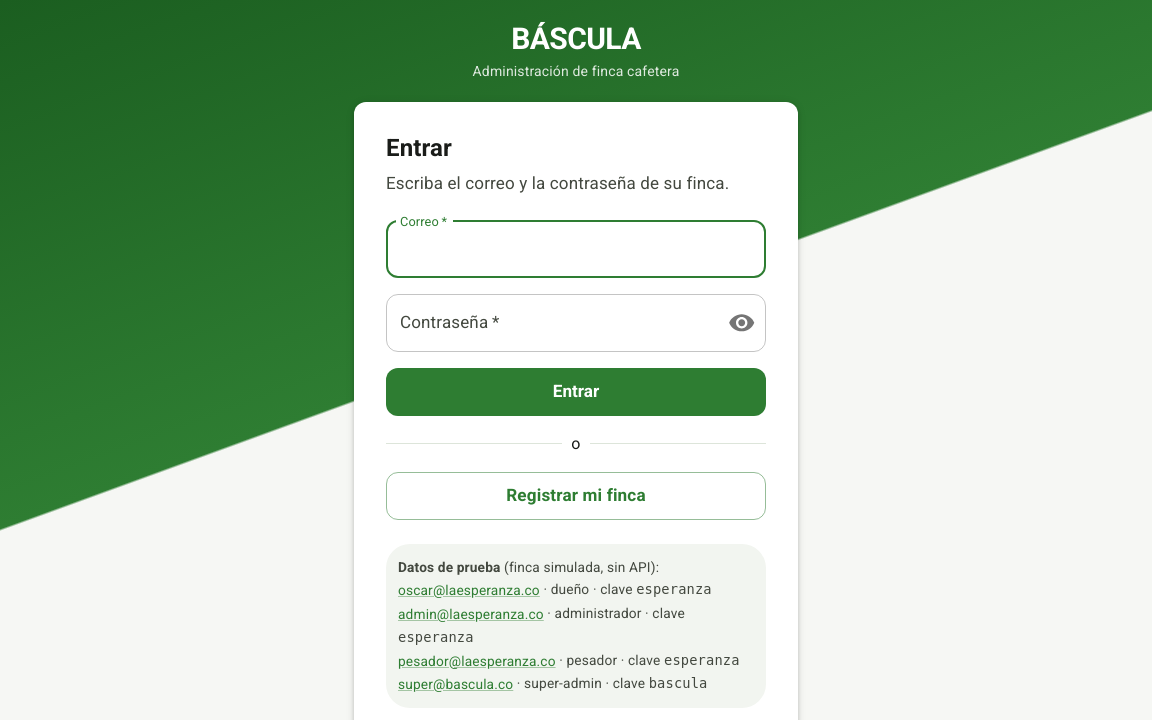
Test: on mocks › offers the test accounts, which fill the form
expect the text "Datos de prueba" is shown: met, box [398,559,500,575]
What coordinates should you click on to do the following:
click the button "admin@laesperanza.co"
I would click on:
 (471, 614)
Its box is [398,603,544,626].
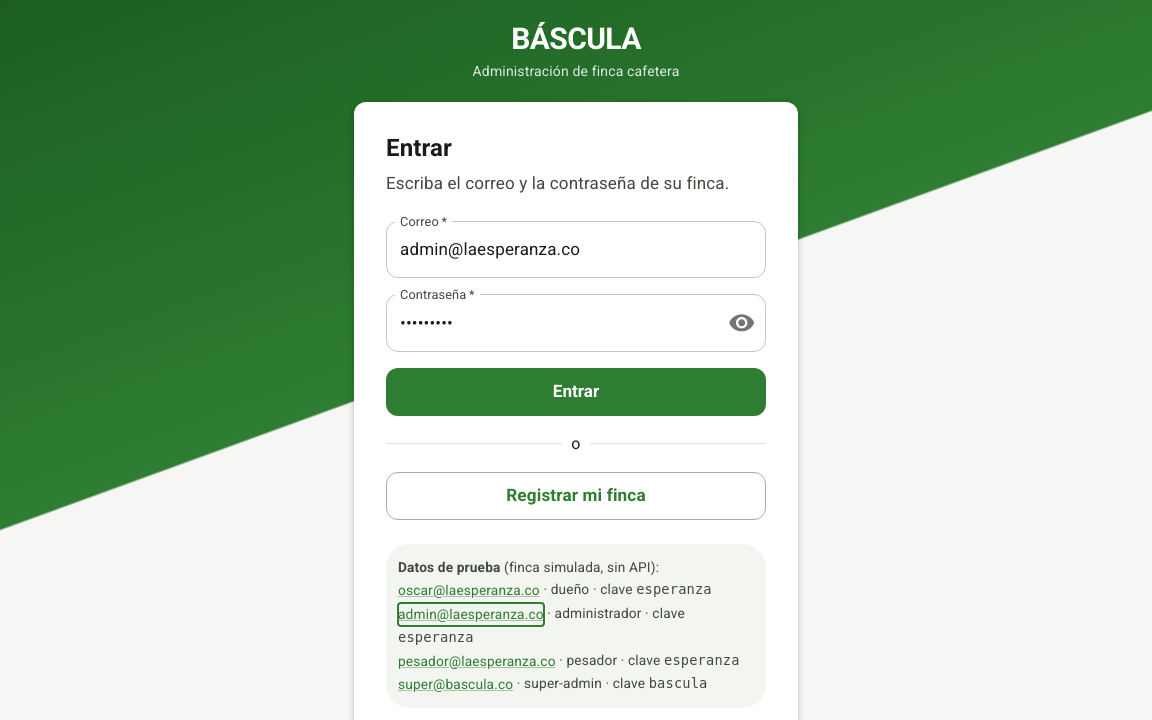
expect the field labelled "Correo *" holds "admin@laesperanza.co": met, box [386,221,766,278]
expect the password field labelled "Contraseña *" holds "esperanza": met, box [386,294,712,352]
What coordinates should you click on to do the following:
click the button "super@bascula.co"
I would click on:
 (456, 685)
Its box is [398,673,513,696].
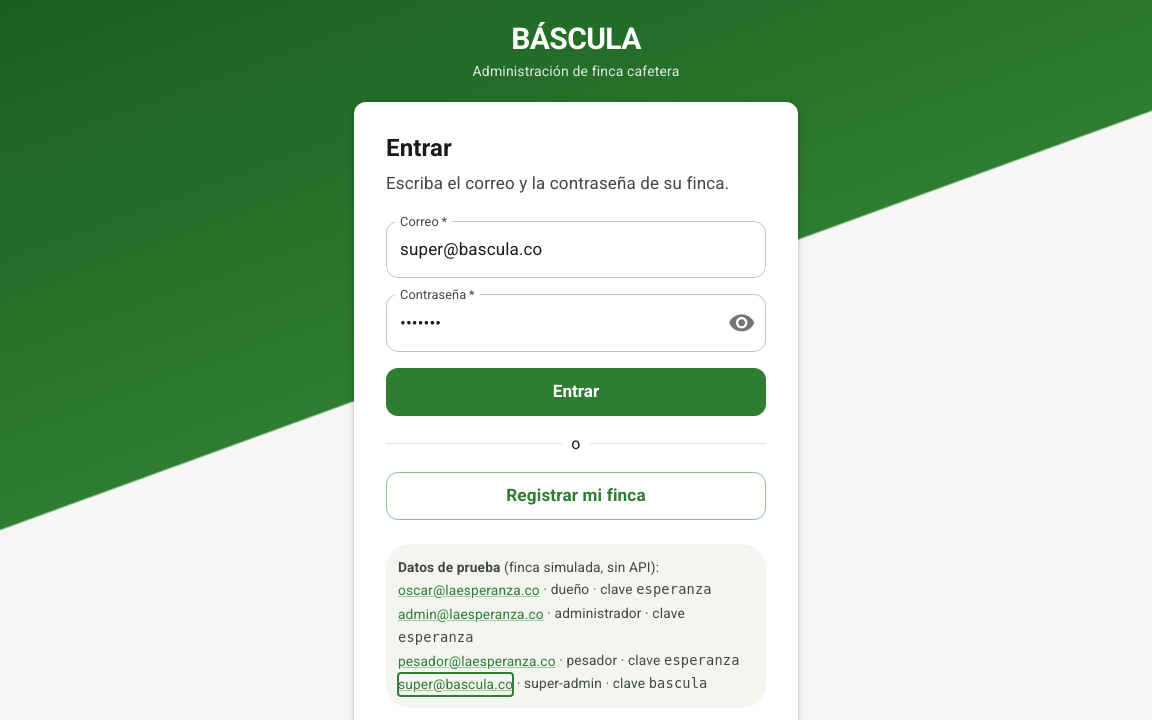
expect the password field labelled "Contraseña *" holds "bascula": met, box [386,294,712,352]
expect the field labelled "Correo *" holds "super@bascula.co": met, box [386,221,766,278]
